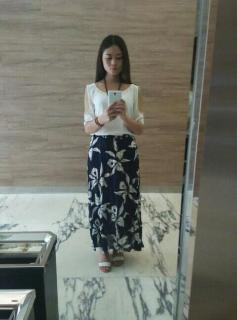short sleeve top: (84, 83, 144, 136)
skirt: (87, 131, 144, 254)
